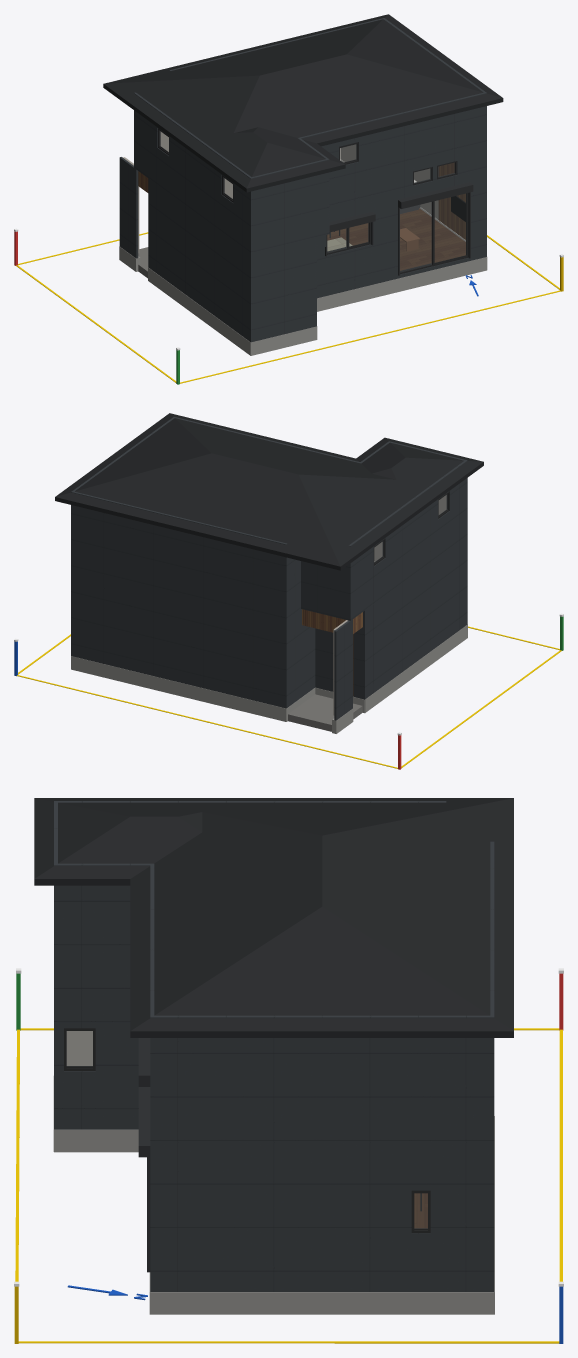
Rendered from A_24_half.glb.
The picture shows the model from 3 angles, top to bottom: view 1: azimuth 30°, elevation 25°; view 2: azimuth 150°, elevation 25°; view 3: azimuth 270°, elevation 25°; orthographic projection. The views are drawn at different scales.
Visible parts, largest first — view 1: siding, roof, glass, found, floor, shutter, frame, lotline, wall, accent; view 2: siding, roof, found, lotline, tile, woodceil, wall; view 3: siding, roof, found, lotline, shutter, glass, wall, frame.
Part boxes in pixels (x1=…): siding: x1=119, y1=18, x2=486, y2=342; roof: x1=103, y1=14, x2=503, y2=192; glass: x1=160, y1=132, x2=465, y2=271; found: x1=119, y1=246, x2=487, y2=355; floor: x1=327, y1=208, x2=465, y2=270; shutter: x1=325, y1=182, x2=473, y2=275; frame: x1=158, y1=128, x2=468, y2=274; lotline: x1=16, y1=232, x2=560, y2=383; wall: x1=123, y1=131, x2=438, y2=253; accent: x1=438, y1=162, x2=465, y2=239; siding: x1=71, y1=417, x2=467, y2=720; roof: x1=55, y1=413, x2=483, y2=570; found: x1=71, y1=624, x2=467, y2=733; lotline: x1=17, y1=626, x2=561, y2=768; tile: x1=288, y1=694, x2=362, y2=731; woodceil: x1=302, y1=609, x2=362, y2=633; wall: x1=333, y1=495, x2=446, y2=715; siding: x1=54, y1=801, x2=494, y2=1291; roof: x1=34, y1=798, x2=513, y2=1037; found: x1=53, y1=1076, x2=494, y2=1314; lotline: x1=15, y1=1028, x2=562, y2=1343; shutter: x1=138, y1=1038, x2=150, y2=1272; glass: x1=67, y1=1031, x2=427, y2=1227; wall: x1=66, y1=1031, x2=92, y2=1065; frame: x1=64, y1=1028, x2=430, y2=1233.
Size of the model in its own units: 14.14 by 7.01 by 10.42.
Materials: 31 (6 with a texture image).
